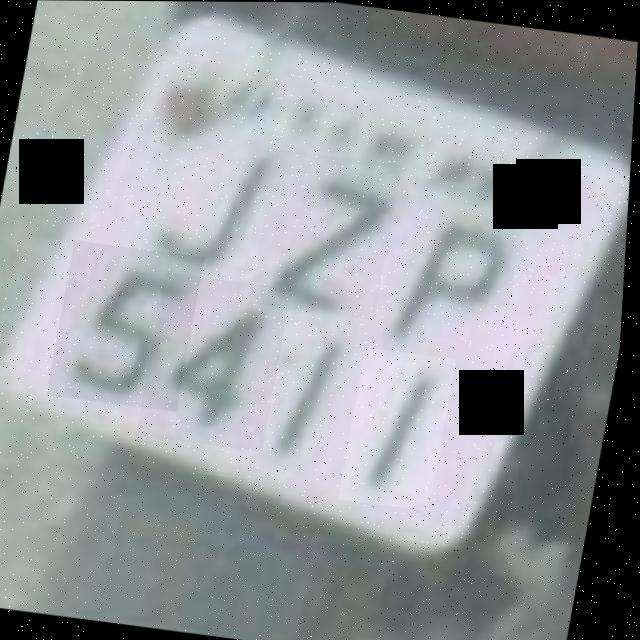1: (251, 310, 370, 477), (343, 346, 461, 510)
4: (140, 272, 295, 451)
5: (50, 239, 208, 411)
J: (129, 108, 283, 279)
P: (375, 193, 523, 372)
Z: (251, 148, 404, 319)
